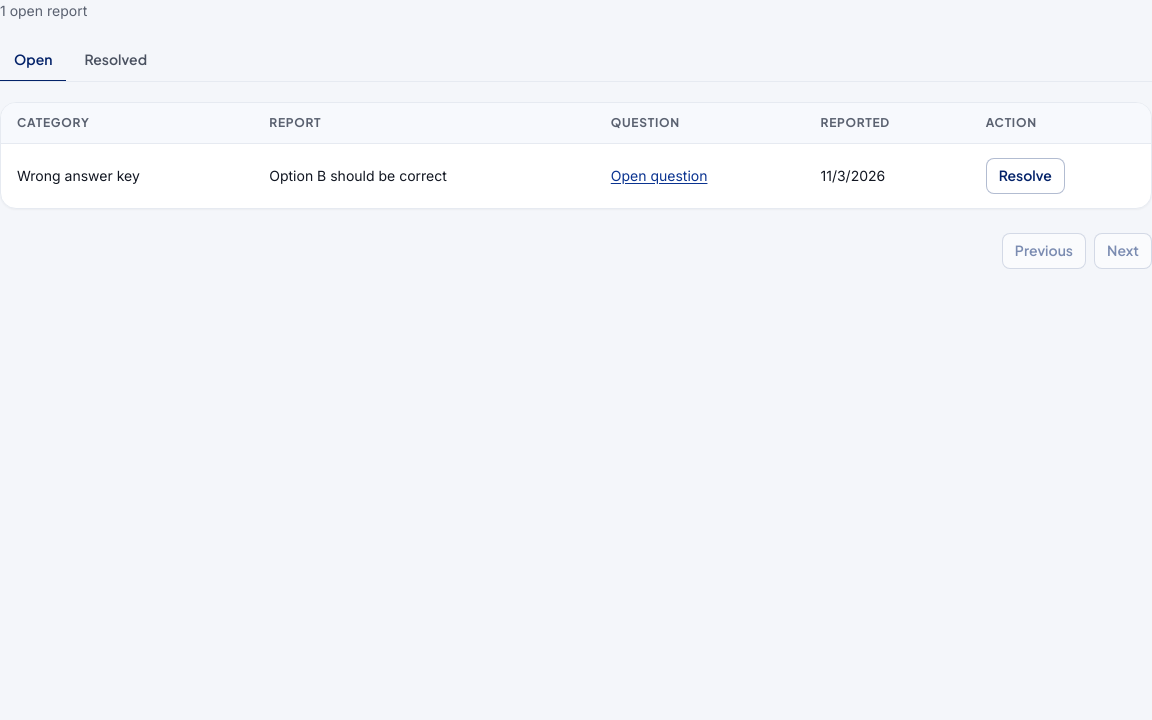
Test: QuestionReportQueue (CMS-013) › lists open reports and resolves one with a note
The width and height of the screenshot is (1152, 720).
Expected: the text "Option B should be correct" is shown, [269,167,447,184]
Expected: the text "1 open report" is shown, [0,2,87,19]
Click the button with aria-label "Resolve report r1". click: (1025, 176)
box: [986,158,1065,194]
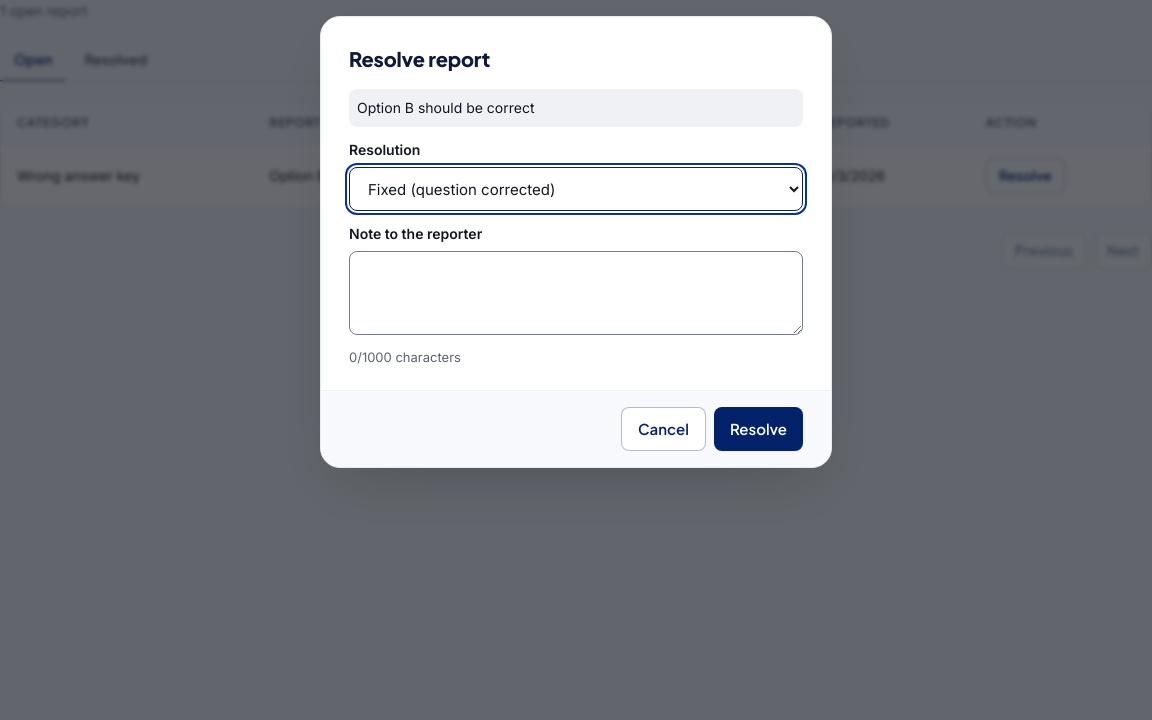
Type "Key corrected" into the text box labelled "Note to the reporter". click: (576, 293)
box: [349,251,803,335]
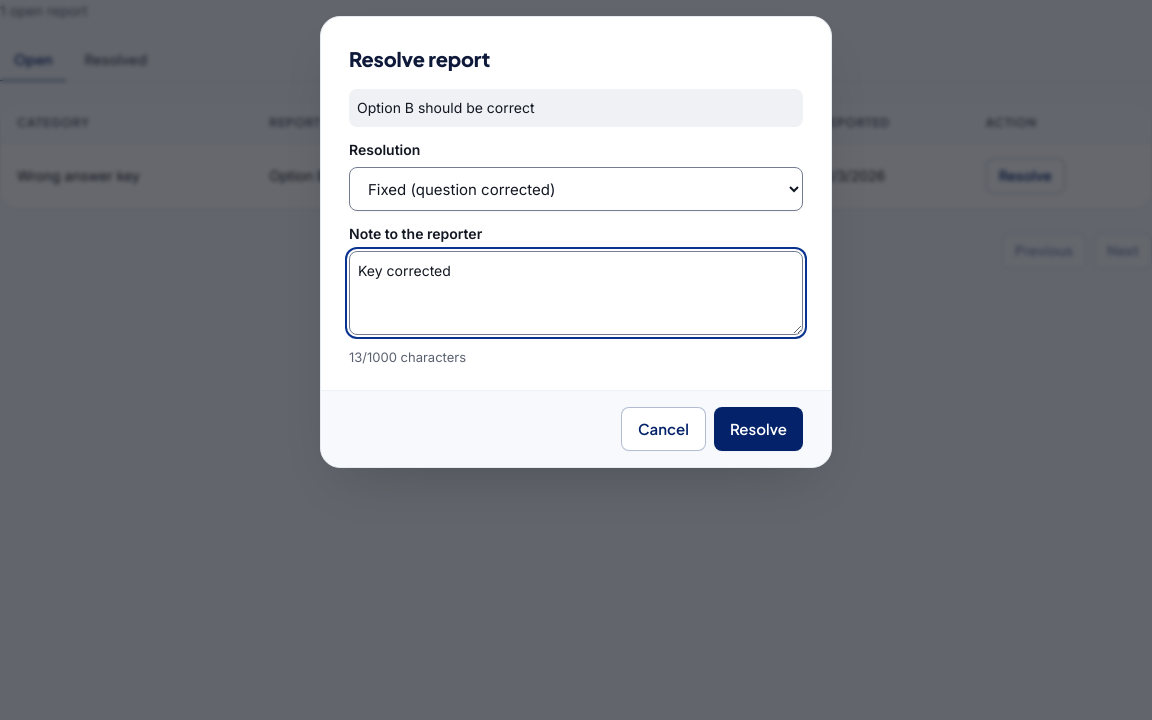
Click the button "Resolve". click: (758, 430)
box: [714,408,803,452]
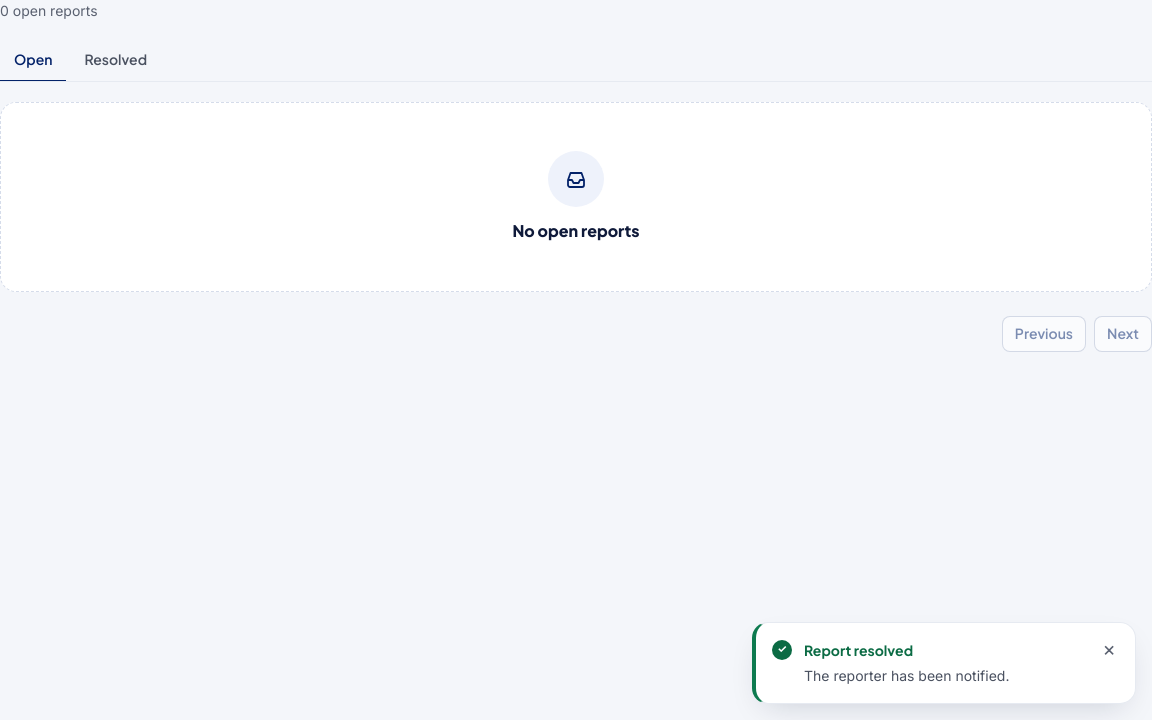
Expected: the text "Report resolved" is shown, [804,641,913,659]
Expected: the text "No open reports" is shown, [512,219,640,243]
